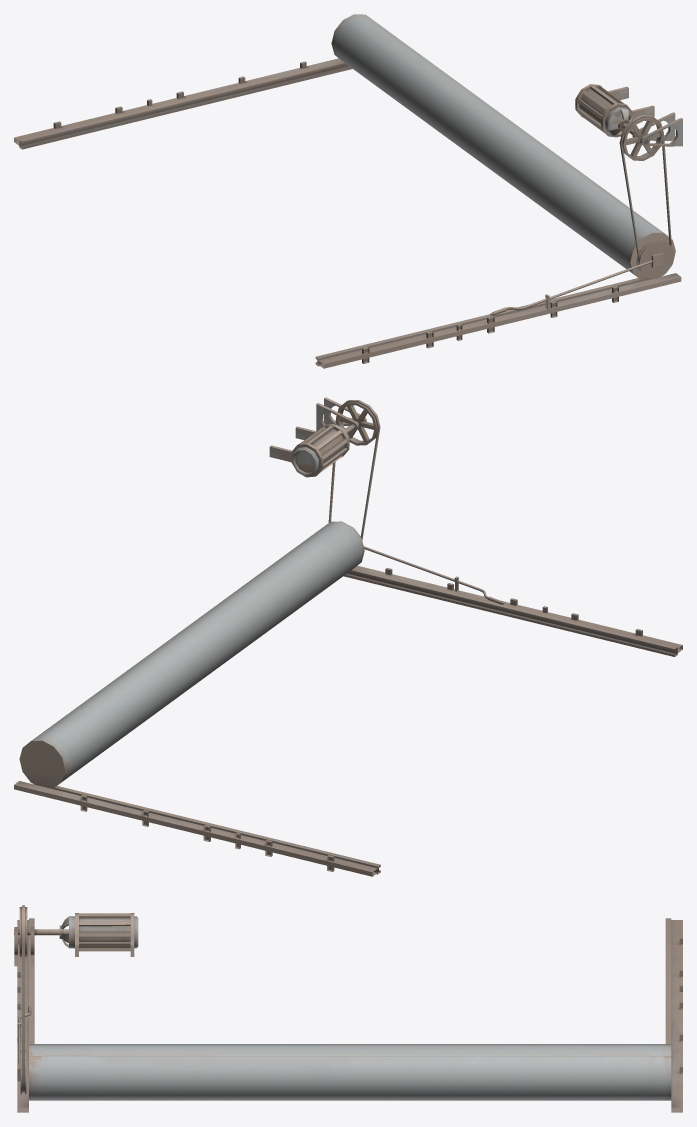
File: props_gameplay_door_slide_large.glb
3 renders of one model, top to bottom at view 1: azimuth 30°, elevation 25°; view 2: azimuth 150°, elevation 25°; view 3: azimuth 270°, elevation 25°, orthographic. The views are drawn at different scales.
Visible parts, largest first — view 1: models/props_gameplay/door_slide_large; view 2: models/props_gameplay/door_slide_large; view 3: models/props_gameplay/door_slide_large.
Boxes of the visible parts, x1,y1,x2,y2 form: models/props_gameplay/door_slide_large: (14, 14, 682, 368); models/props_gameplay/door_slide_large: (14, 397, 682, 876); models/props_gameplay/door_slide_large: (14, 905, 682, 1112).
Bounding box in the file's own units: 128 × 60.73 × 193.
1 material, 1 textured.
